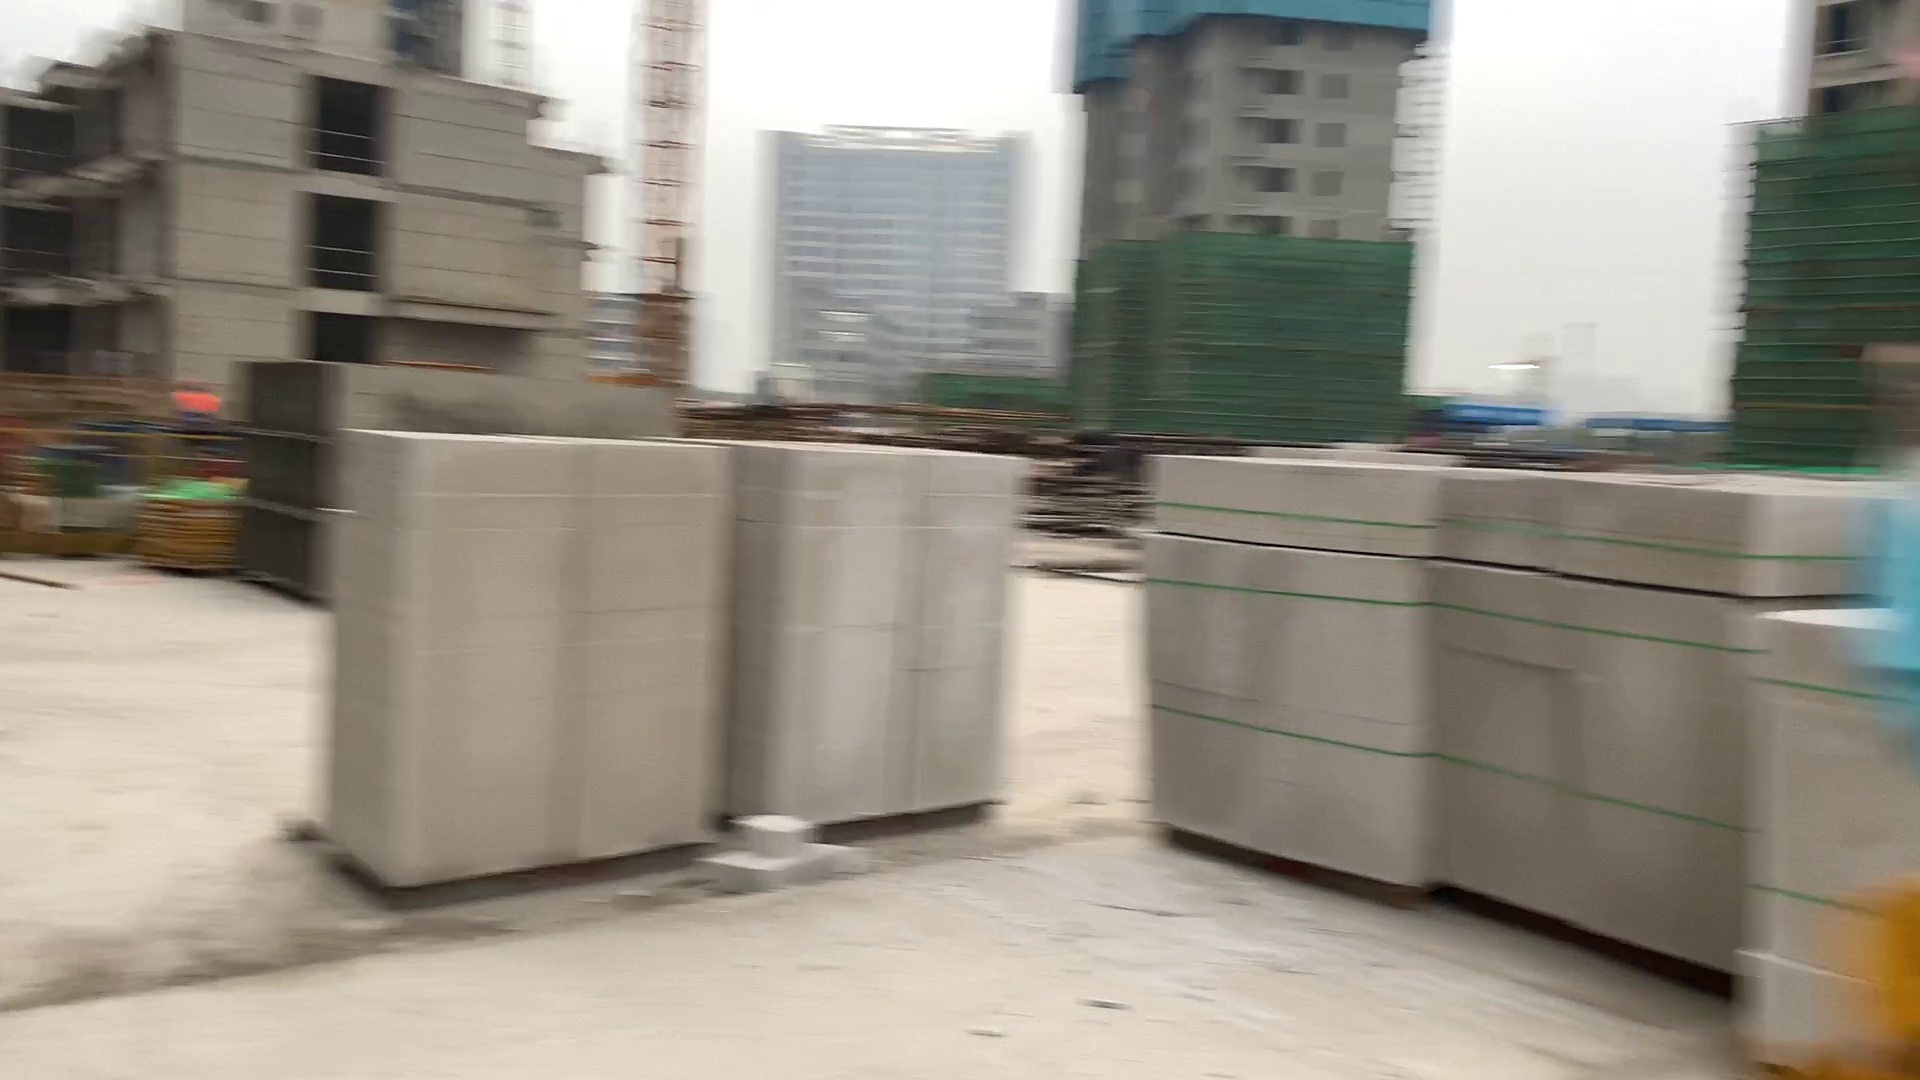brickwork: (339, 427, 724, 873), (1433, 469, 1753, 981), (1129, 448, 1431, 891), (754, 442, 1015, 825), (1741, 592, 1917, 1080)
